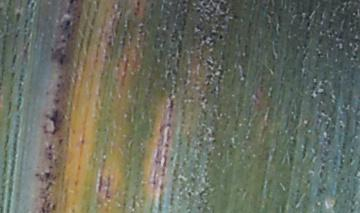tarspot: (41, 109, 60, 137), (58, 53, 66, 67), (63, 19, 71, 30), (336, 122, 345, 131), (304, 19, 312, 29), (352, 8, 360, 18), (43, 171, 52, 178), (217, 33, 225, 40), (351, 53, 358, 60), (313, 1, 319, 8), (67, 1, 76, 5), (135, 1, 140, 8)
